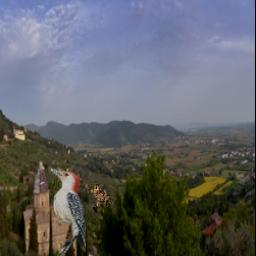Sparrow: (92, 183, 114, 207)
Woodpecker: (47, 167, 87, 256)
